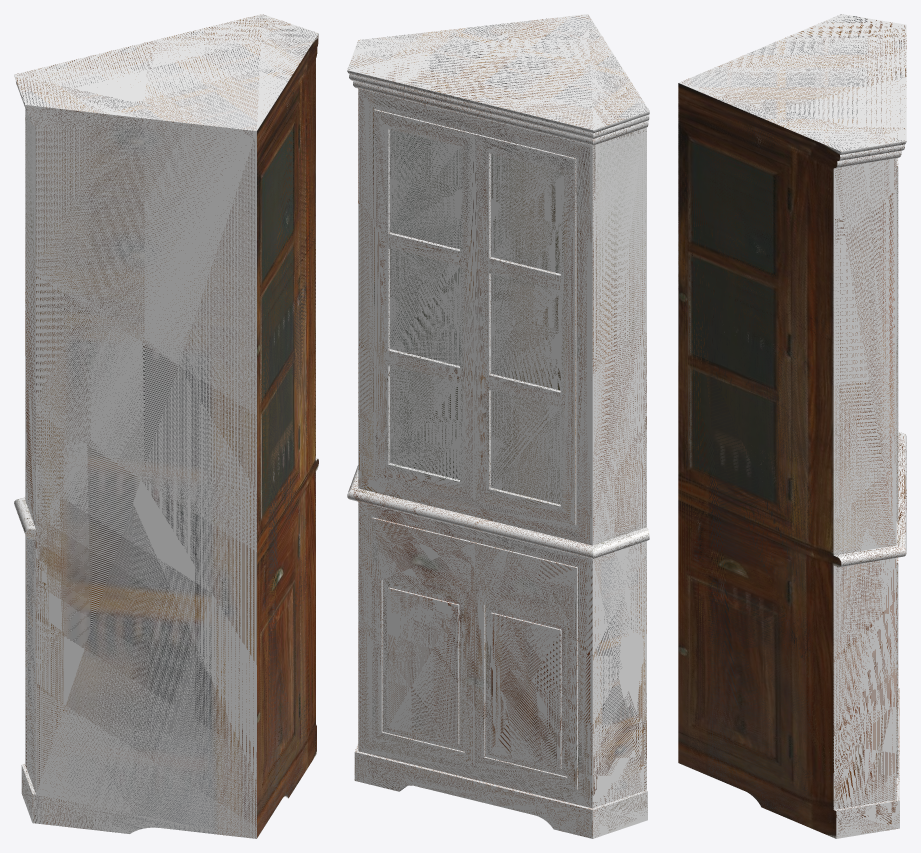
3 views of the same model, side by side, from view 1: azimuth 30°, elevation 25°; view 2: azimuth 150°, elevation 25°; view 3: azimuth 270°, elevation 25° (orthographic). The views are drawn at different scales.
Parts seen in each view (by area): view 1: mesh1_mesh1-geometry; view 2: mesh1_mesh1-geometry; view 3: mesh1_mesh1-geometry.
Part boxes in pixels (x1,y1,x2,y2): mesh1_mesh1-geometry: (14,14,318,838); mesh1_mesh1-geometry: (347,14,649,838); mesh1_mesh1-geometry: (678,14,906,838).
Bounding box in the file's own units: 0.3797 × 0.8861 × 0.2658.
